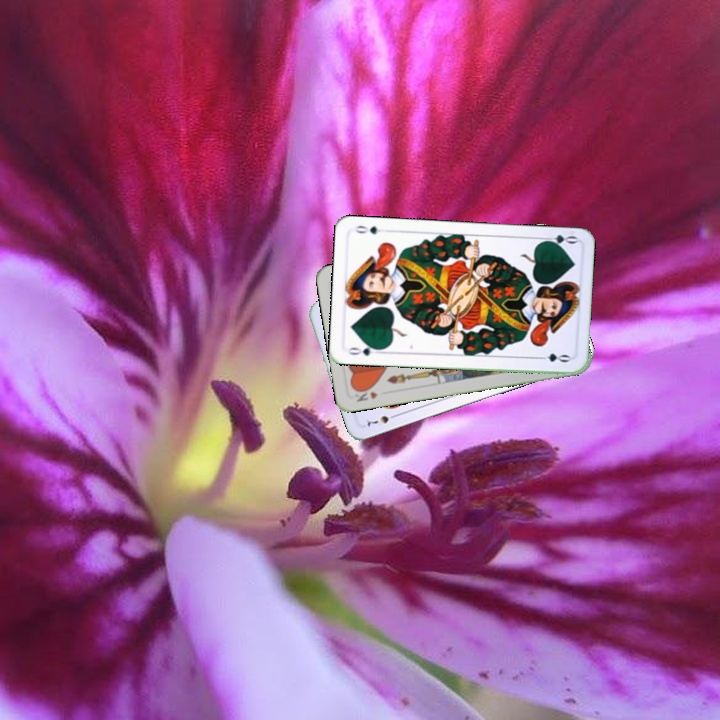GO: (538, 231, 579, 249), (345, 341, 384, 359)
HK: (349, 384, 380, 405)
S7: (362, 410, 401, 429)
